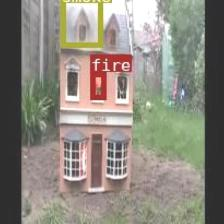fire: (90, 71, 105, 98)
smoke: (60, 0, 102, 46)
